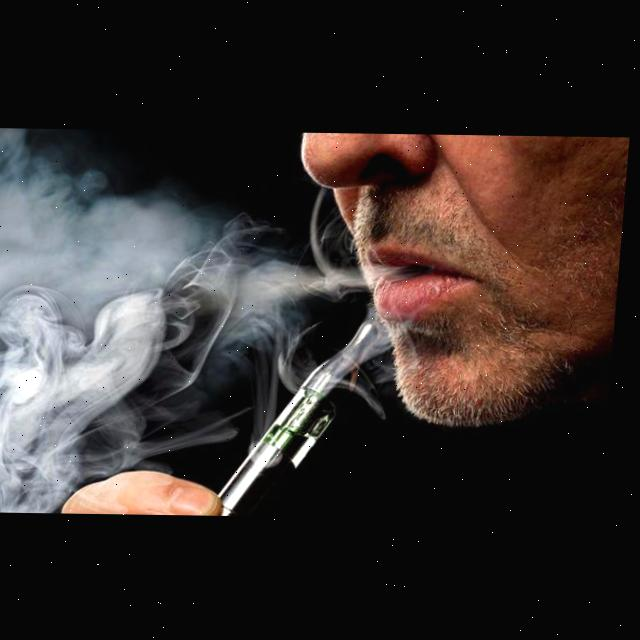vape: (224, 319, 385, 517)
